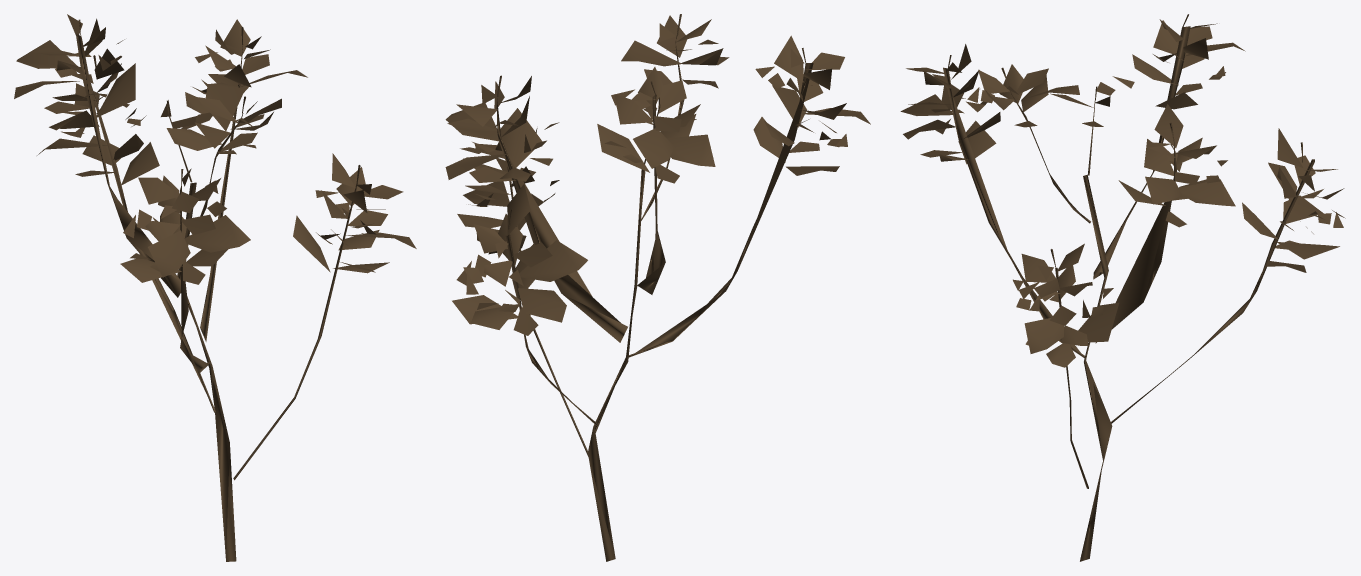
File: periwinkle-lod1.glb
The picture shows the model from 3 angles, left to right: view 1: azimuth 30°, elevation 25°; view 2: azimuth 150°, elevation 25°; view 3: azimuth 270°, elevation 25°; orthographic projection. The views are drawn at different scales.
Visible parts, largest first — view 1: periwinkle; view 2: periwinkle; view 3: periwinkle.
Boxes of the visible parts, bbox=[...] form: periwinkle: bbox=[14, 14, 416, 561]; periwinkle: bbox=[445, 14, 870, 561]; periwinkle: bbox=[900, 14, 1345, 561].
Size of the model in its own units: 0.2513 by 0.3867 by 0.3117.
